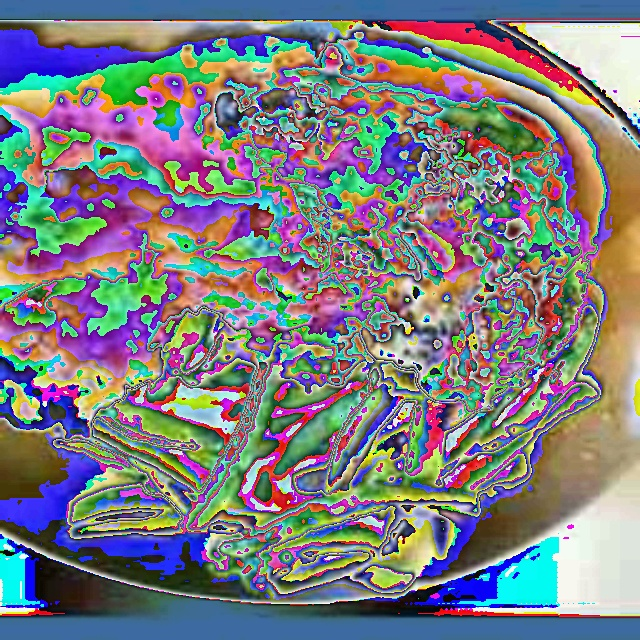background: (0, 70, 603, 602)
